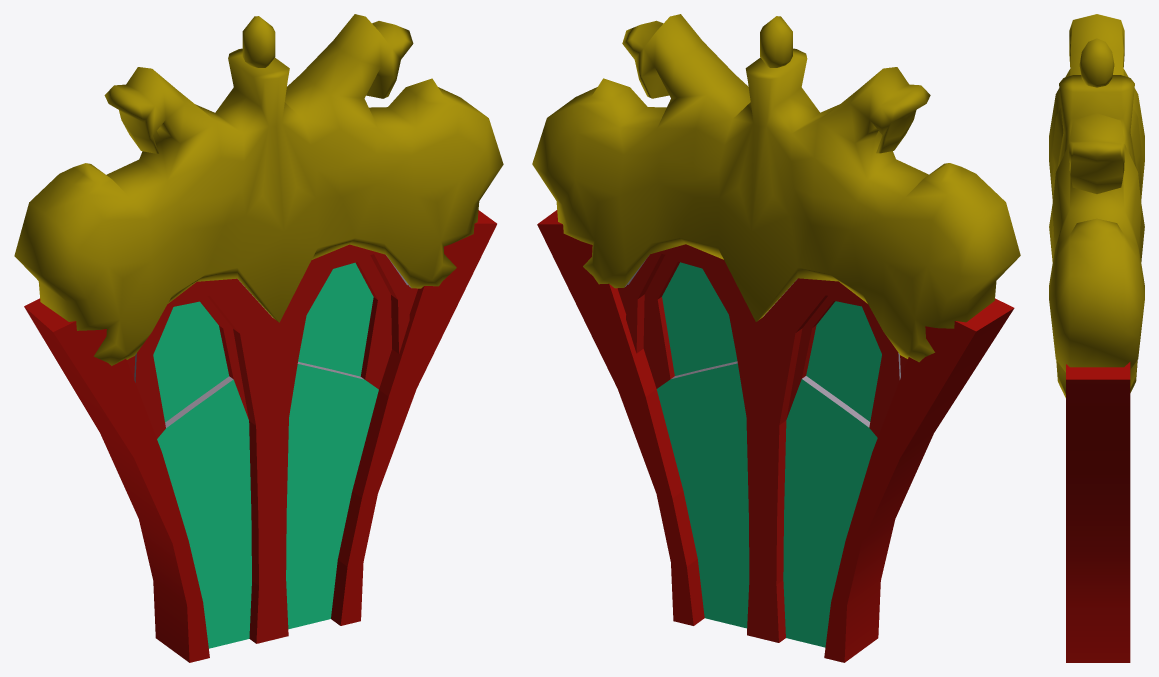
File: door2.obj
3 views of the same model, side by side, from view 1: azimuth 30°, elevation 25°; view 2: azimuth 150°, elevation 25°; view 3: azimuth 270°, elevation 25° (orthographic). The views are drawn at different scales.
Parts seen in each view (by area): view 1: door2.001; view 2: door2.001; view 3: door2.001.
Part boxes in pixels (x1,y1,x2,y2): door2.001: (14,14,503,662); door2.001: (532,14,1020,662); door2.001: (1049,14,1144,662).
Size of the model in its own units: 6.33 by 8.05 by 1.2.
